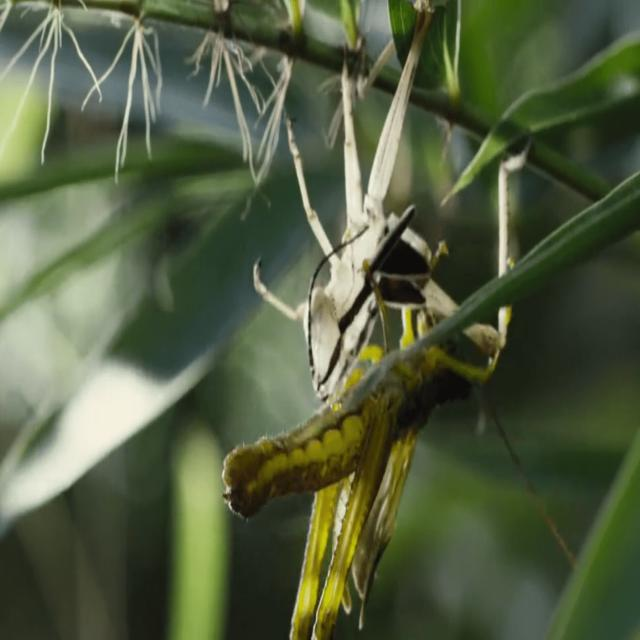ZhaMeng: (213, 251, 522, 613)
